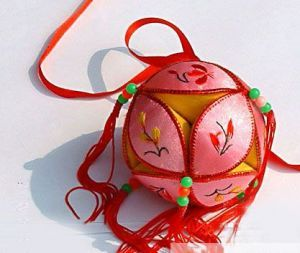xiuqiu: (123, 62, 266, 209)
